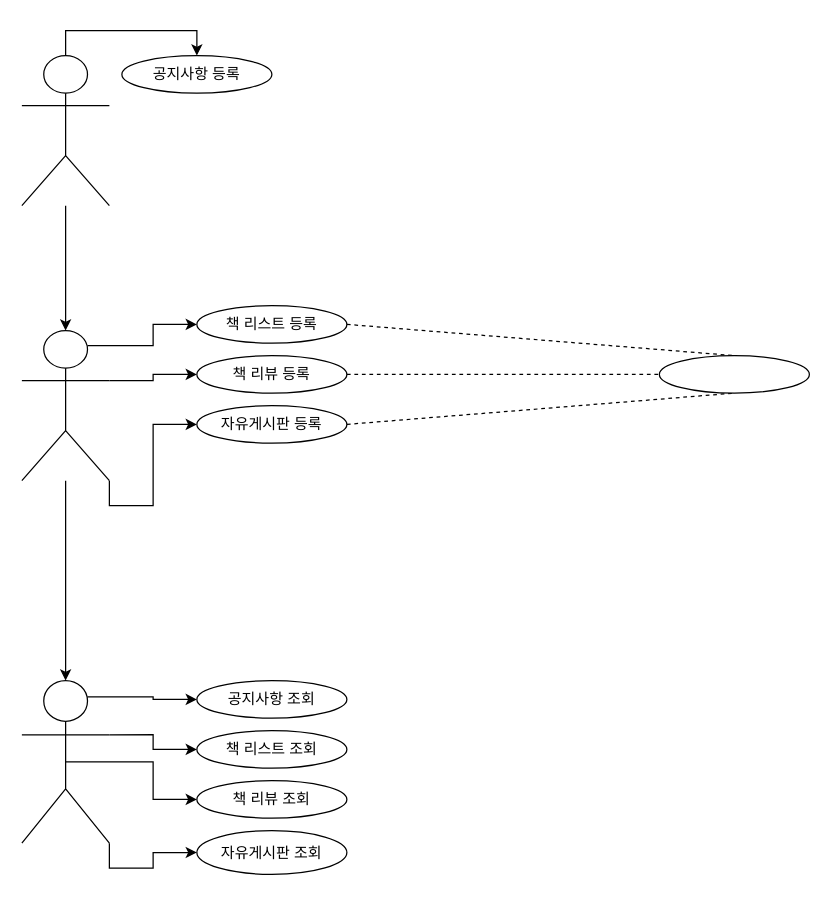
This 831x900 diagram has some shape labels left out. Each missing label, with the centre of its shape:
관리자: (x=65, y=130)
로그인: (x=733, y=373)
비회원: (x=65, y=761)
회원: (x=65, y=405)
